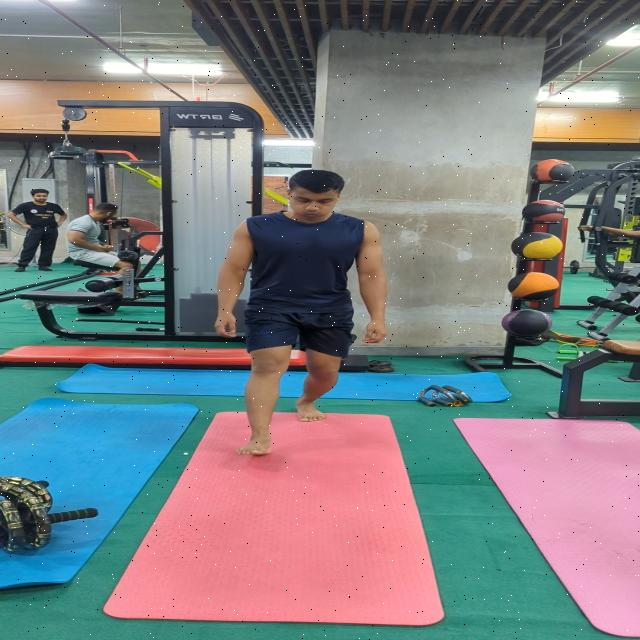Normal_Lunges: (215, 168, 387, 460)
